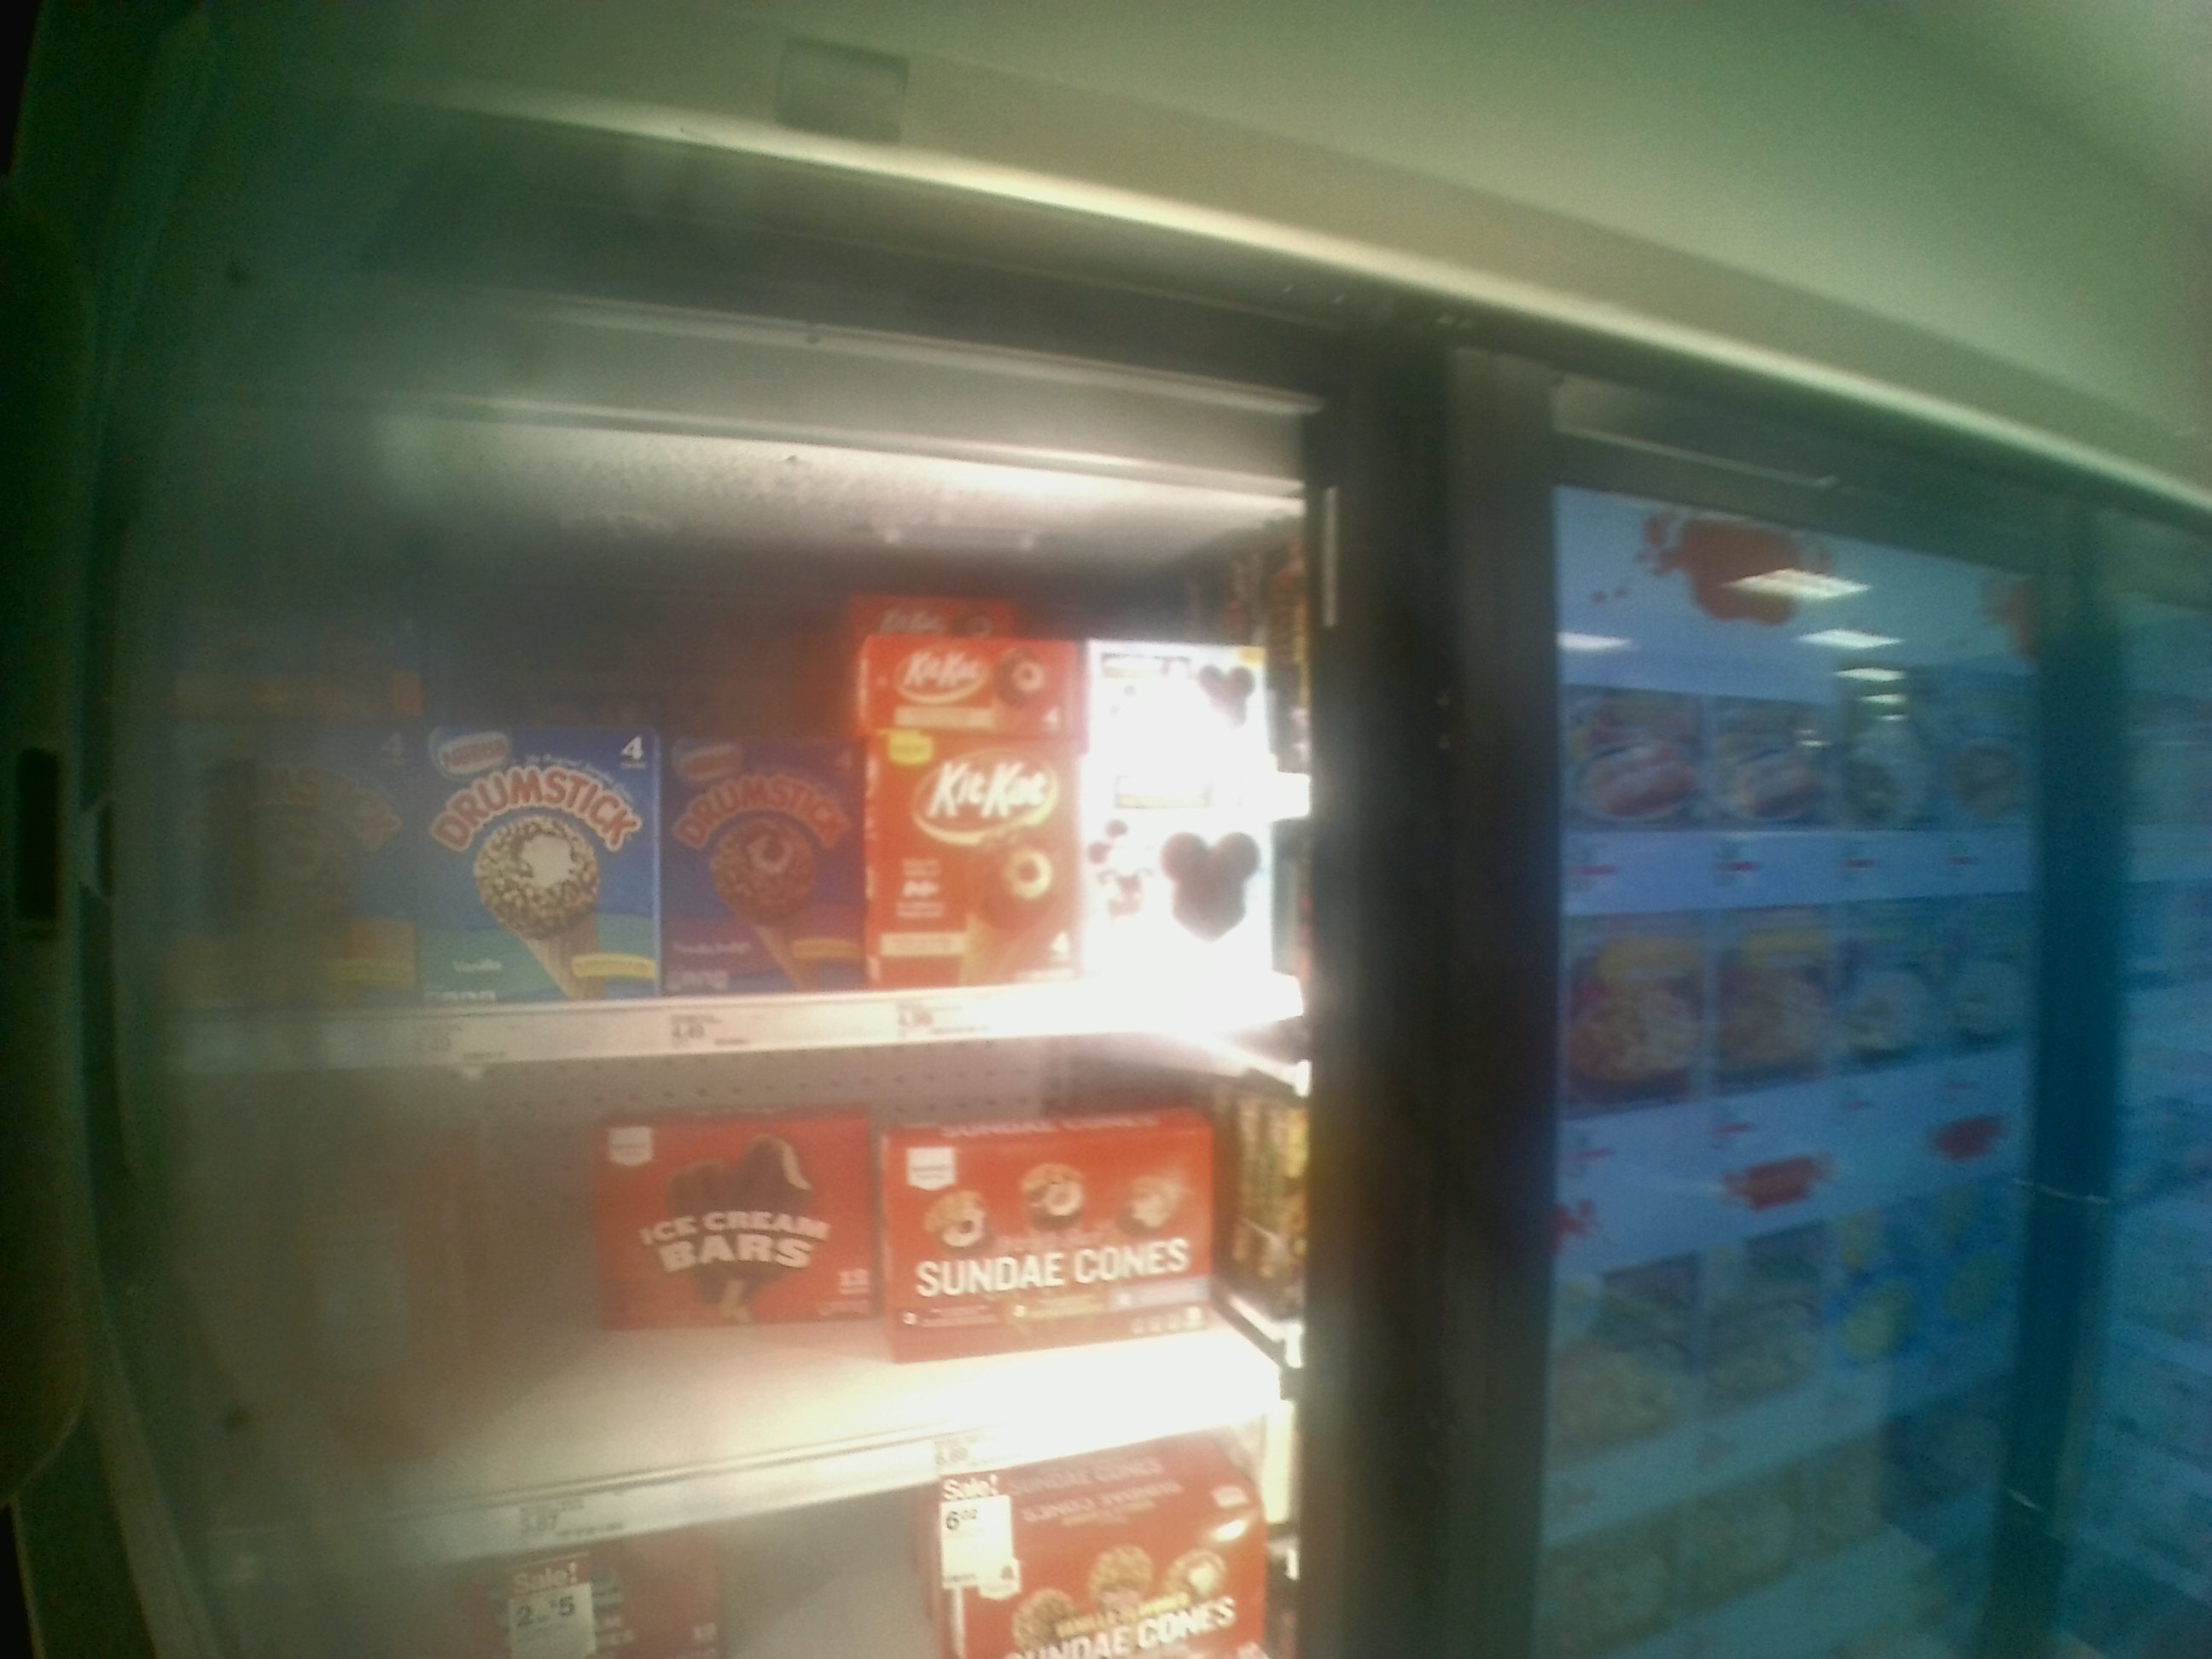frozen-food-shelf: (138, 511, 1339, 1082)
